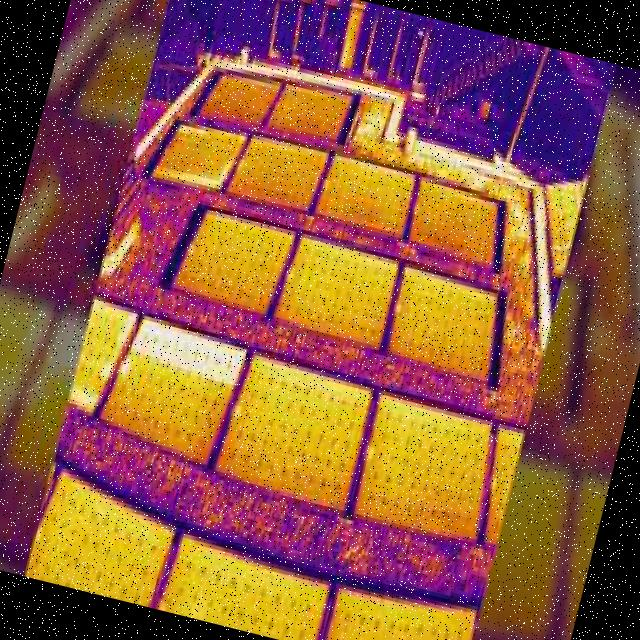Hotspot: (128, 314, 253, 387), (152, 165, 222, 192), (67, 381, 101, 416), (113, 306, 138, 350), (96, 356, 117, 386), (178, 124, 205, 138), (115, 356, 132, 378), (219, 156, 233, 180), (232, 402, 244, 422), (184, 240, 197, 257), (364, 442, 375, 462), (486, 476, 498, 493), (284, 268, 297, 282), (394, 300, 404, 316), (237, 131, 246, 144)
